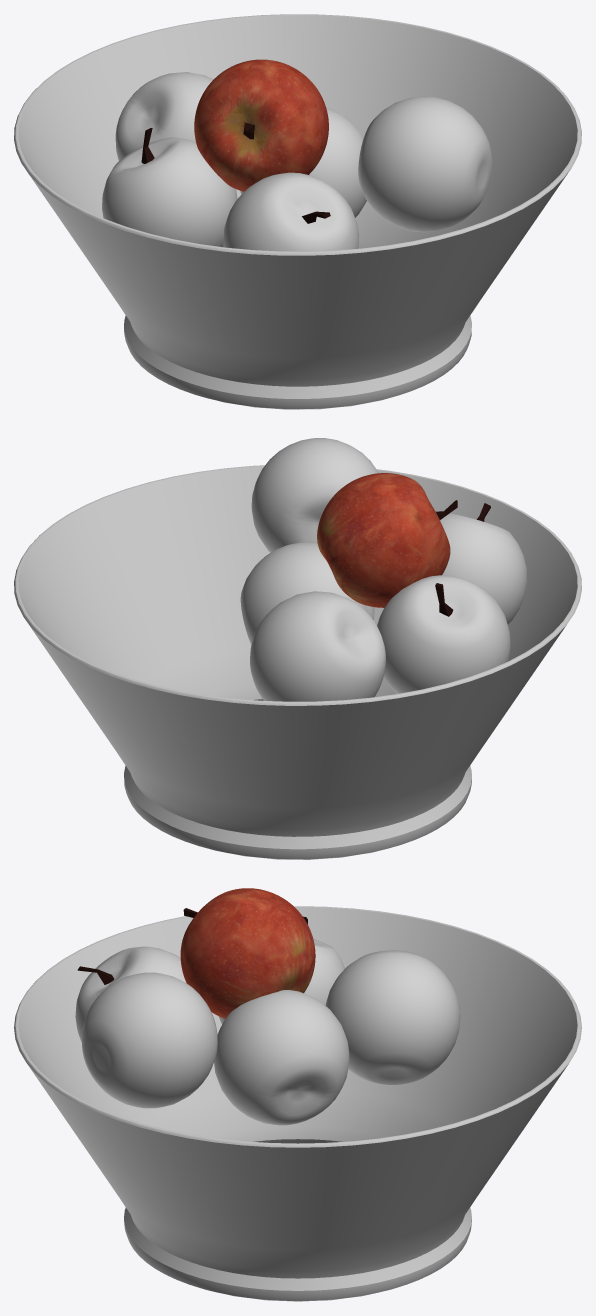
File: Apple.obj
3 renders of one model, top to bottom at view 1: azimuth 30°, elevation 25°; view 2: azimuth 150°, elevation 25°; view 3: azimuth 270°, elevation 25°, orthographic.
Parts seen in each view (by area): view 1: Circle, Sphere.003_Sphere.006, Sphere.005_Sphere.008, Sphere, Sphere.001_Sphere.004, Sphere.004_Sphere.007, Sphere.002_Sphere.005; view 2: Circle, Sphere.005_Sphere.008, Sphere.004_Sphere.007, Sphere, Sphere.003_Sphere.006, Sphere.001_Sphere.004, Sphere.002_Sphere.005; view 3: Circle, Sphere.003_Sphere.006, Sphere.002_Sphere.005, Sphere.004_Sphere.007, Sphere.005_Sphere.008, Sphere.001_Sphere.004, Sphere.
Boxes of the visible parts, <box> form: Circle: <box>14,14,581,409</box>; Sphere.003_Sphere.006: <box>358,96,492,232</box>; Sphere.005_Sphere.008: <box>194,59,328,191</box>; Sphere: <box>102,137,237,246</box>; Sphere.001_Sphere.004: <box>223,172,359,251</box>; Sphere.004_Sphere.007: <box>115,72,213,160</box>; Sphere.002_Sphere.005: <box>240,107,366,217</box>; Circle: <box>14,465,581,859</box>; Sphere.005_Sphere.008: <box>317,473,450,607</box>; Sphere.004_Sphere.007: <box>250,591,385,701</box>; Sphere: <box>377,575,510,693</box>; Sphere.003_Sphere.006: <box>251,438,378,552</box>; Sphere.001_Sphere.004: <box>440,513,527,624</box>; Sphere.002_Sphere.005: <box>240,542,374,644</box>; Circle: <box>14,906,581,1301</box>; Sphere.003_Sphere.006: <box>82,972,217,1108</box>; Sphere.002_Sphere.005: <box>214,990,349,1125</box>; Sphere.004_Sphere.007: <box>325,950,460,1084</box>; Sphere.005_Sphere.008: <box>180,888,315,1018</box>; Sphere.001_Sphere.004: <box>75,946,186,1042</box>; Sphere: <box>218,939,344,1024</box>.
Size of the model in its own units: 3.33 by 2 by 3.33.
